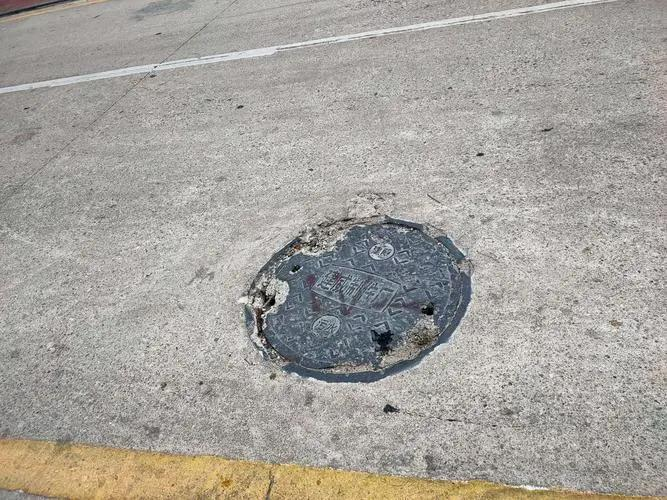wellcover: (246, 198, 478, 389)
